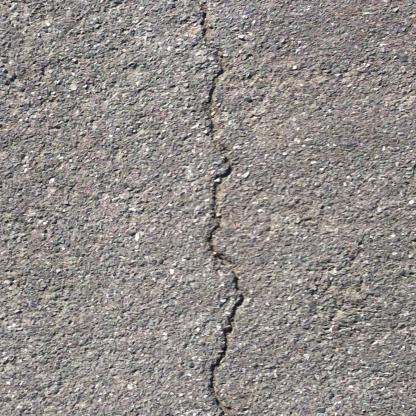Cracks: (133, 0, 281, 416)
